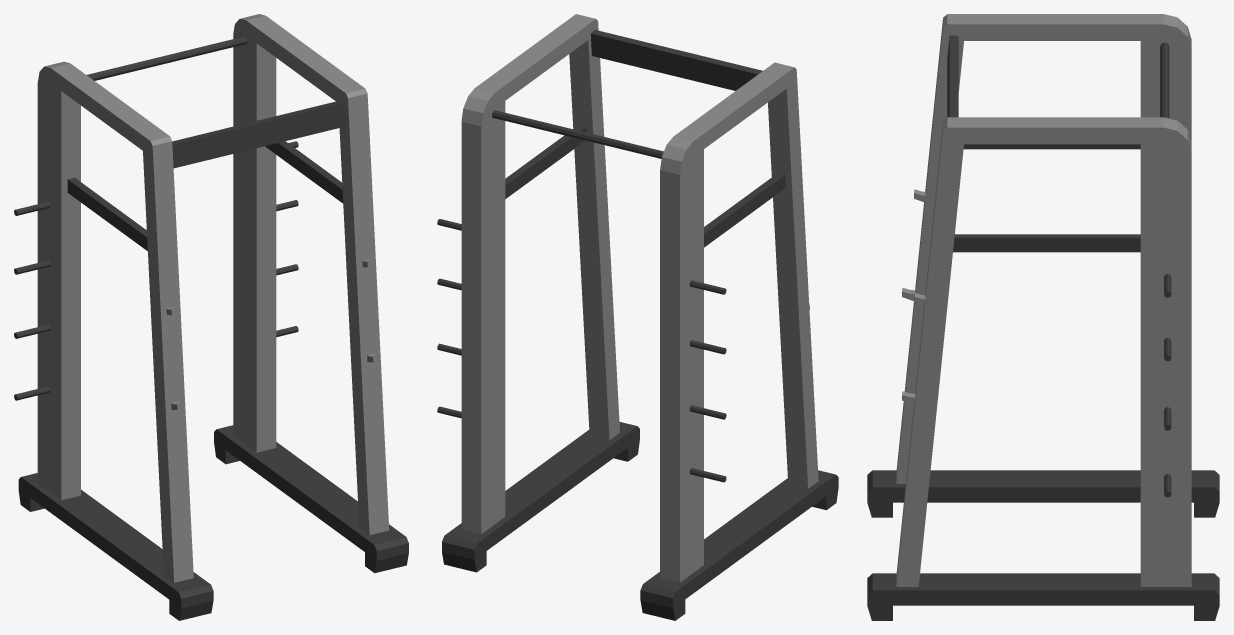
Rendered from sm_machine.glb.
3 views of the same model, side by side, from view 1: azimuth 30°, elevation 25°; view 2: azimuth 150°, elevation 25°; view 3: azimuth 270°, elevation 25° (orthographic). The views are drawn at different scales.
Visible parts, largest first — view 1: Sm_Machine; view 2: Sm_Machine; view 3: Sm_Machine.
Boxes of the visible parts, left/top/right/bottom form: Sm_Machine: left=14, top=14, right=408, bottom=620; Sm_Machine: left=437, top=14, right=838, bottom=620; Sm_Machine: left=867, top=14, right=1219, bottom=620.
Size of the model in its own units: 1.67 by 2.57 by 1.67.
1 material, 1 textured.
